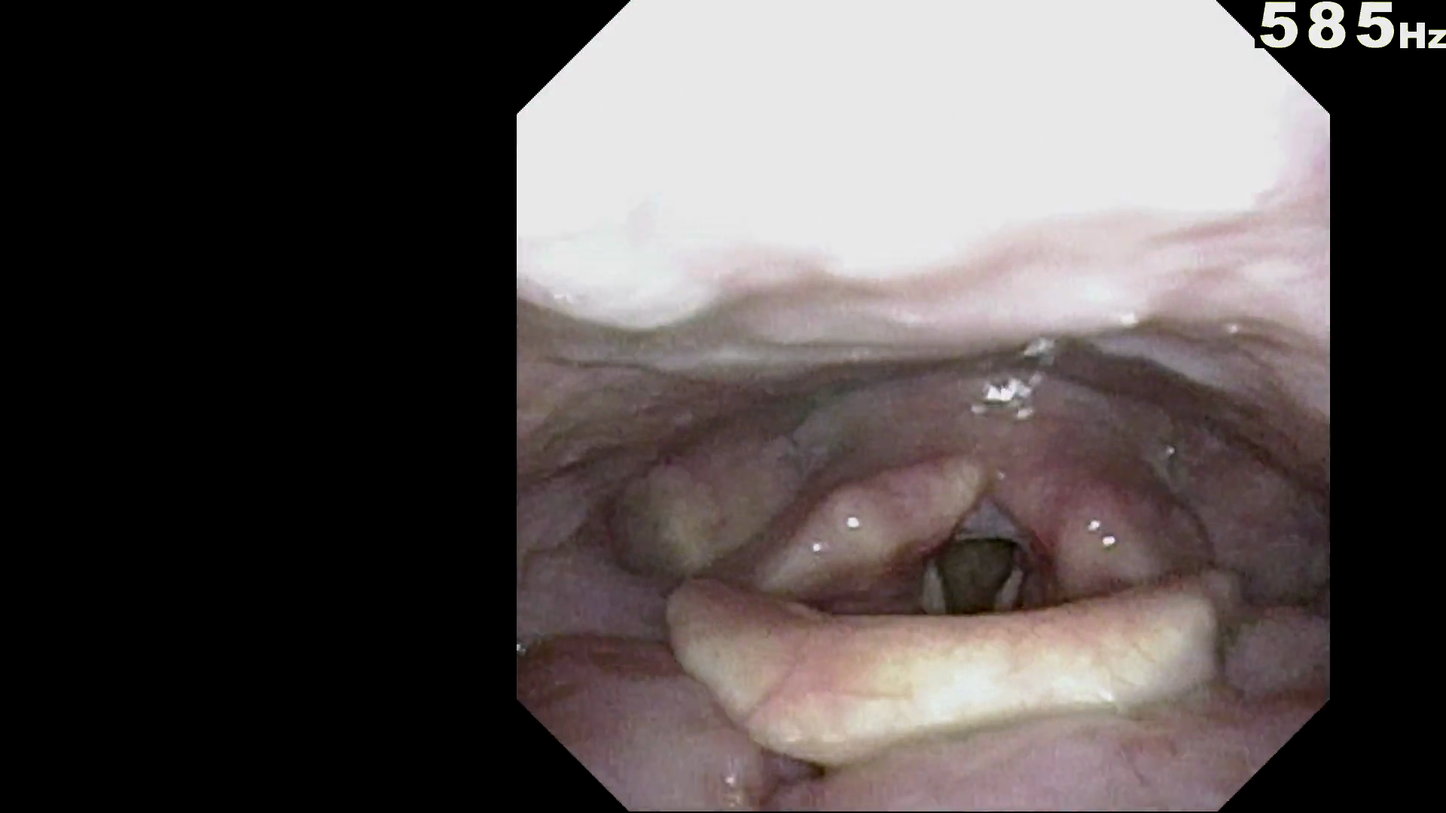epiglottis: (660, 598, 1201, 737)
trachea: (907, 533, 1036, 627)
